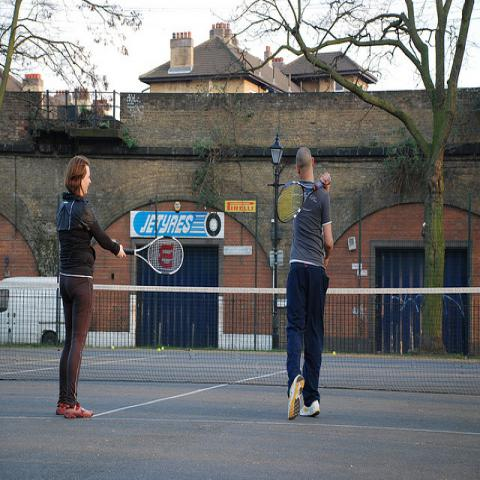truck: (0, 276, 67, 345)
